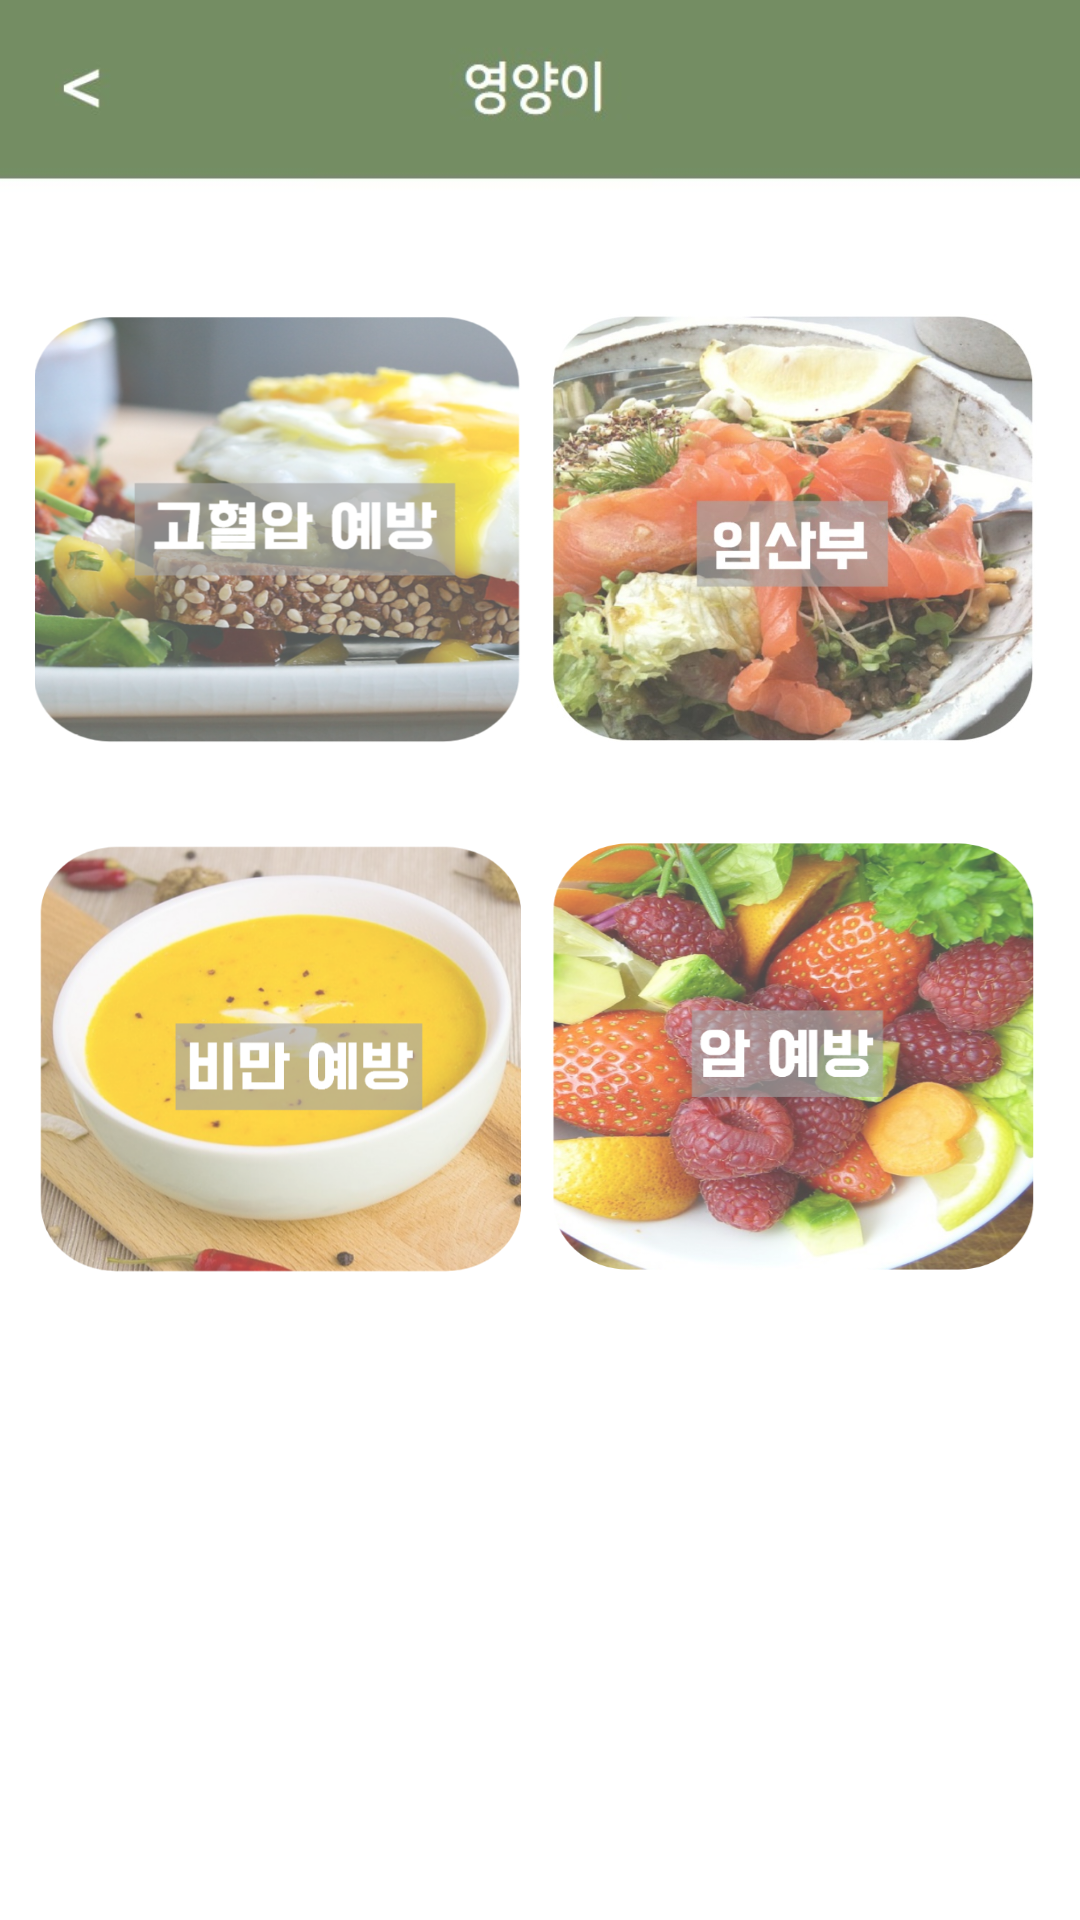

Icons on this 1080px x 1920px Android screen, each with its box as {"left": x1, "top": y1, "right": x2, "bottom": y2}:
backimage: {"left": 63, "top": 69, "right": 100, "bottom": 108}
